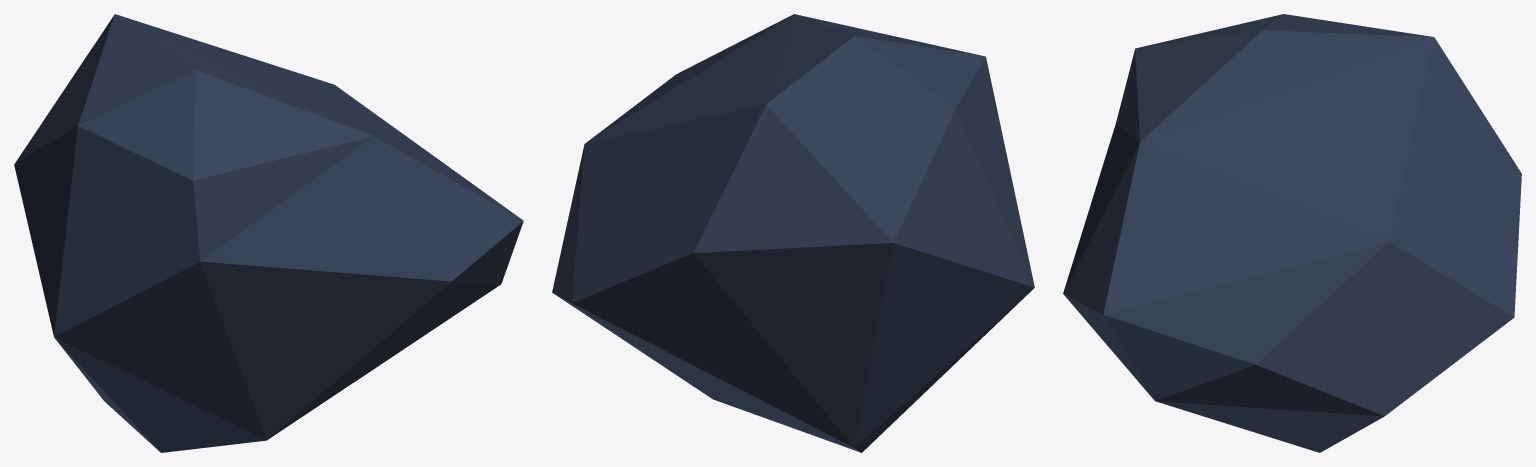
The model's file is Rock_2.fbx.
3 views of the same model, side by side, from view 1: azimuth 30°, elevation 25°; view 2: azimuth 150°, elevation 25°; view 3: azimuth 270°, elevation 25° (orthographic). The views are drawn at different scales.
Visible parts, largest first — view 1: Rock 2; view 2: Rock 2; view 3: Rock 2.
Part boxes in pixels (bbox=[...]): Rock 2: bbox=[14, 14, 523, 452]; Rock 2: bbox=[552, 14, 1034, 452]; Rock 2: bbox=[1063, 14, 1521, 452].
Bounding box in the file's own units: 124 × 108 × 113.
